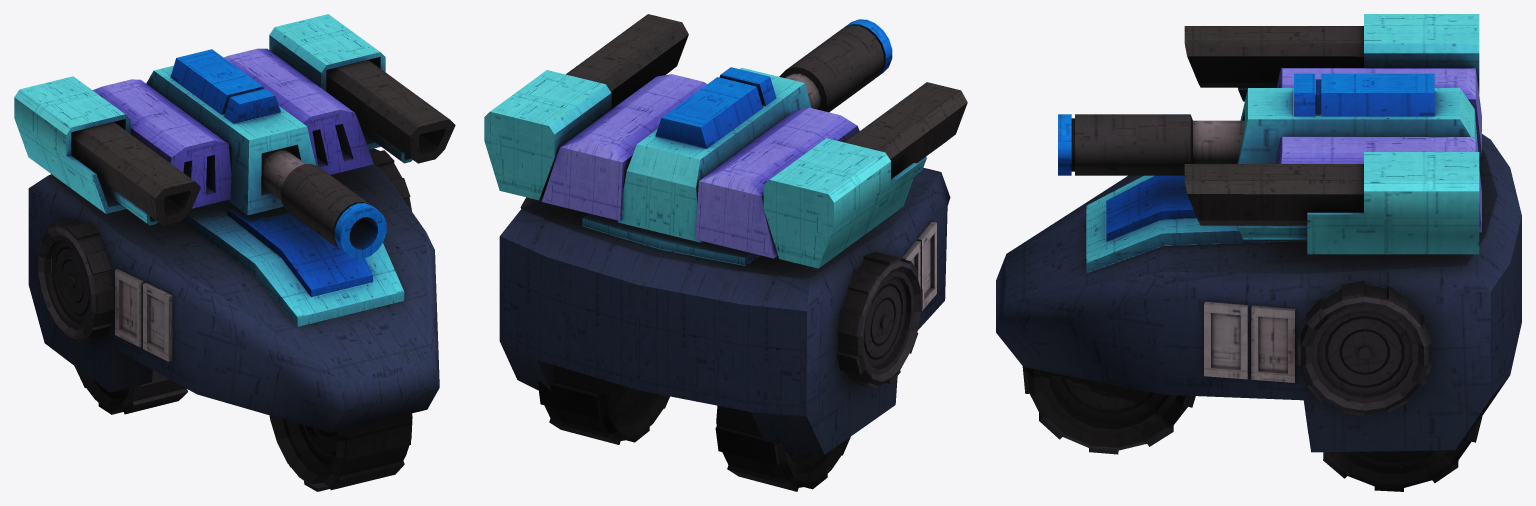
The model's file is PlayerA8.obj.
3 views of the same model, side by side, from view 1: azimuth 30°, elevation 25°; view 2: azimuth 150°, elevation 25°; view 3: azimuth 270°, elevation 25° (orthographic). The views are drawn at different scales.
Visible parts, largest first — view 1: Object001, Object002, Object004, Object003; view 2: Object001, Object002, Object003; view 3: Object001, Object002, Object004, Object003.
Part boxes in pixels (<box>): Object001: <box>28,48,439,432</box>; Object002: <box>14,14,455,225</box>; Object004: <box>269,413,412,491</box>; Object003: <box>74,366,187,414</box>; Object001: <box>499,19,950,454</box>; Object002: <box>484,14,967,268</box>; Object003: <box>537,365,850,491</box>; Object001: <box>996,68,1521,452</box>; Object002: <box>1184,14,1479,254</box>; Object004: <box>1022,366,1195,454</box>; Object003: <box>1305,415,1482,491</box>.
Size of the model in its own units: 93.13 by 88.22 by 119.
Materials: 1 (1 with a texture image).
